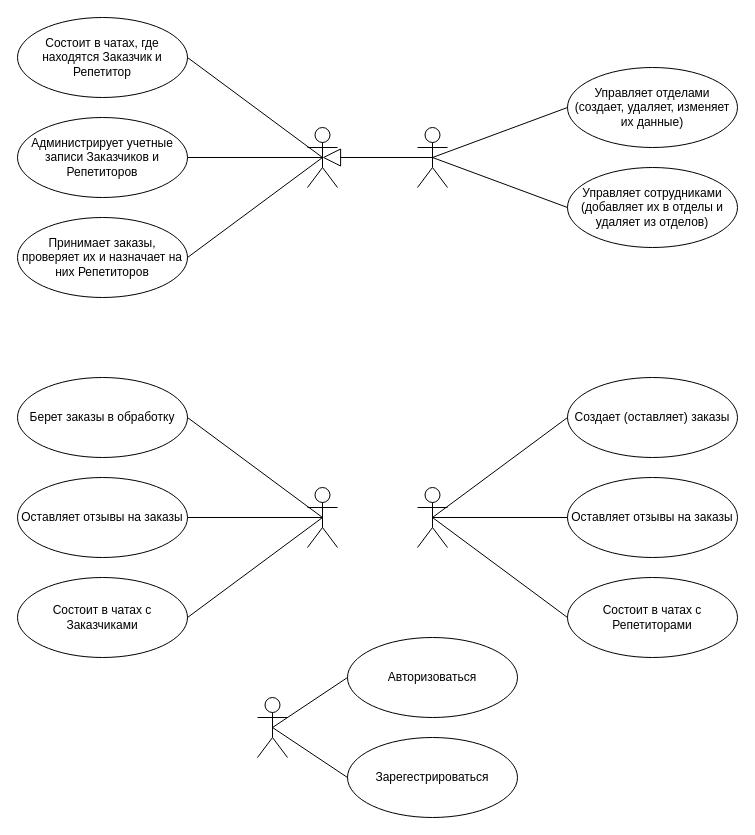
Some shapes in this 755 by 835 pixel diagram are drawn without their labels. Each missing label, with the centre of its shape:
Администратор: point 432,157
Заказчик: point 432,517
Неавторизованный пользователь: point 272,727
Репетитор: point 322,517
Сотрудник: point 322,157
